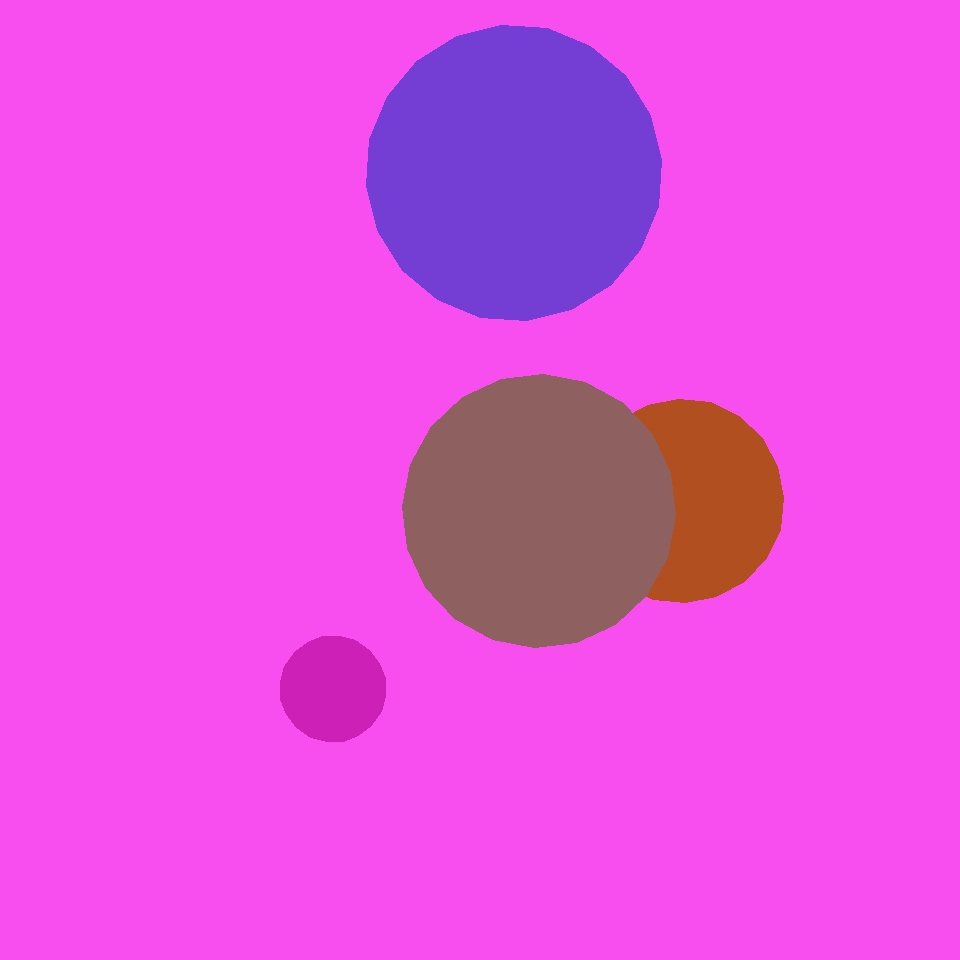circle: (368, 39, 600, 299), (502, 36, 746, 260)
square: (723, 767, 894, 938), (268, 427, 400, 560)
triangle: (366, 25, 662, 320), (402, 374, 676, 648), (580, 400, 784, 602), (280, 636, 386, 742)
